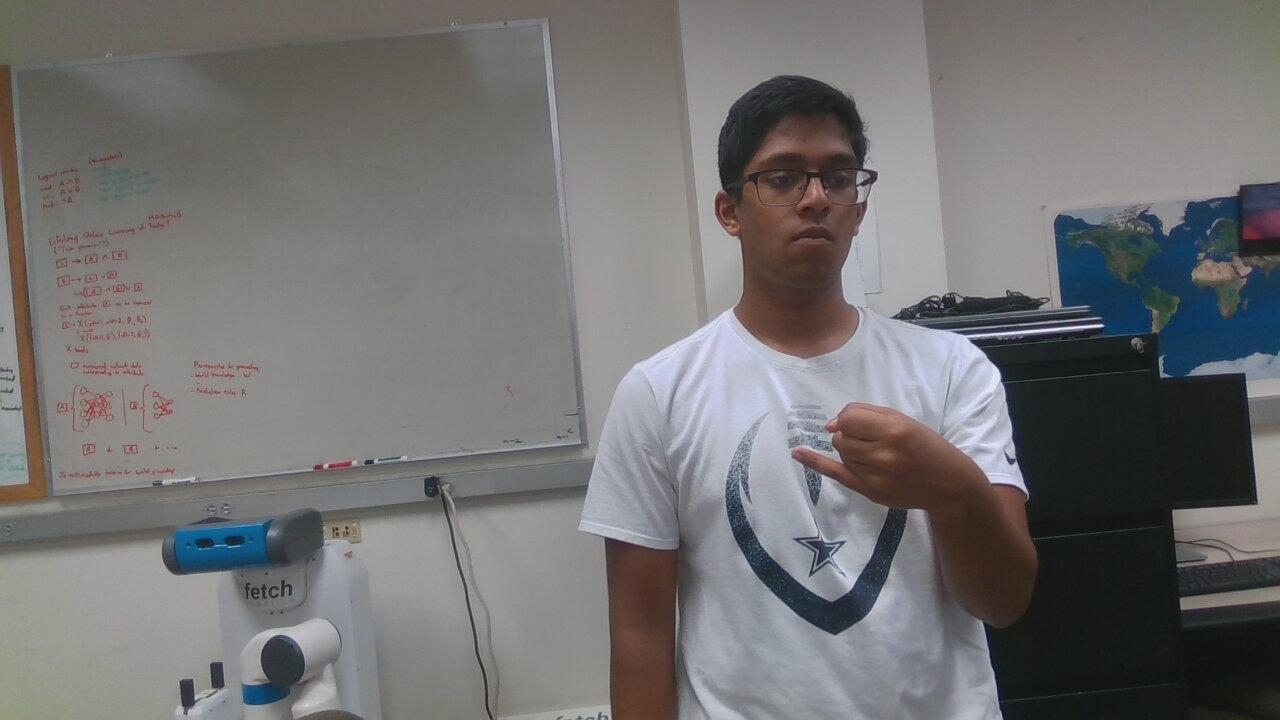hands: (746, 340, 974, 560)
